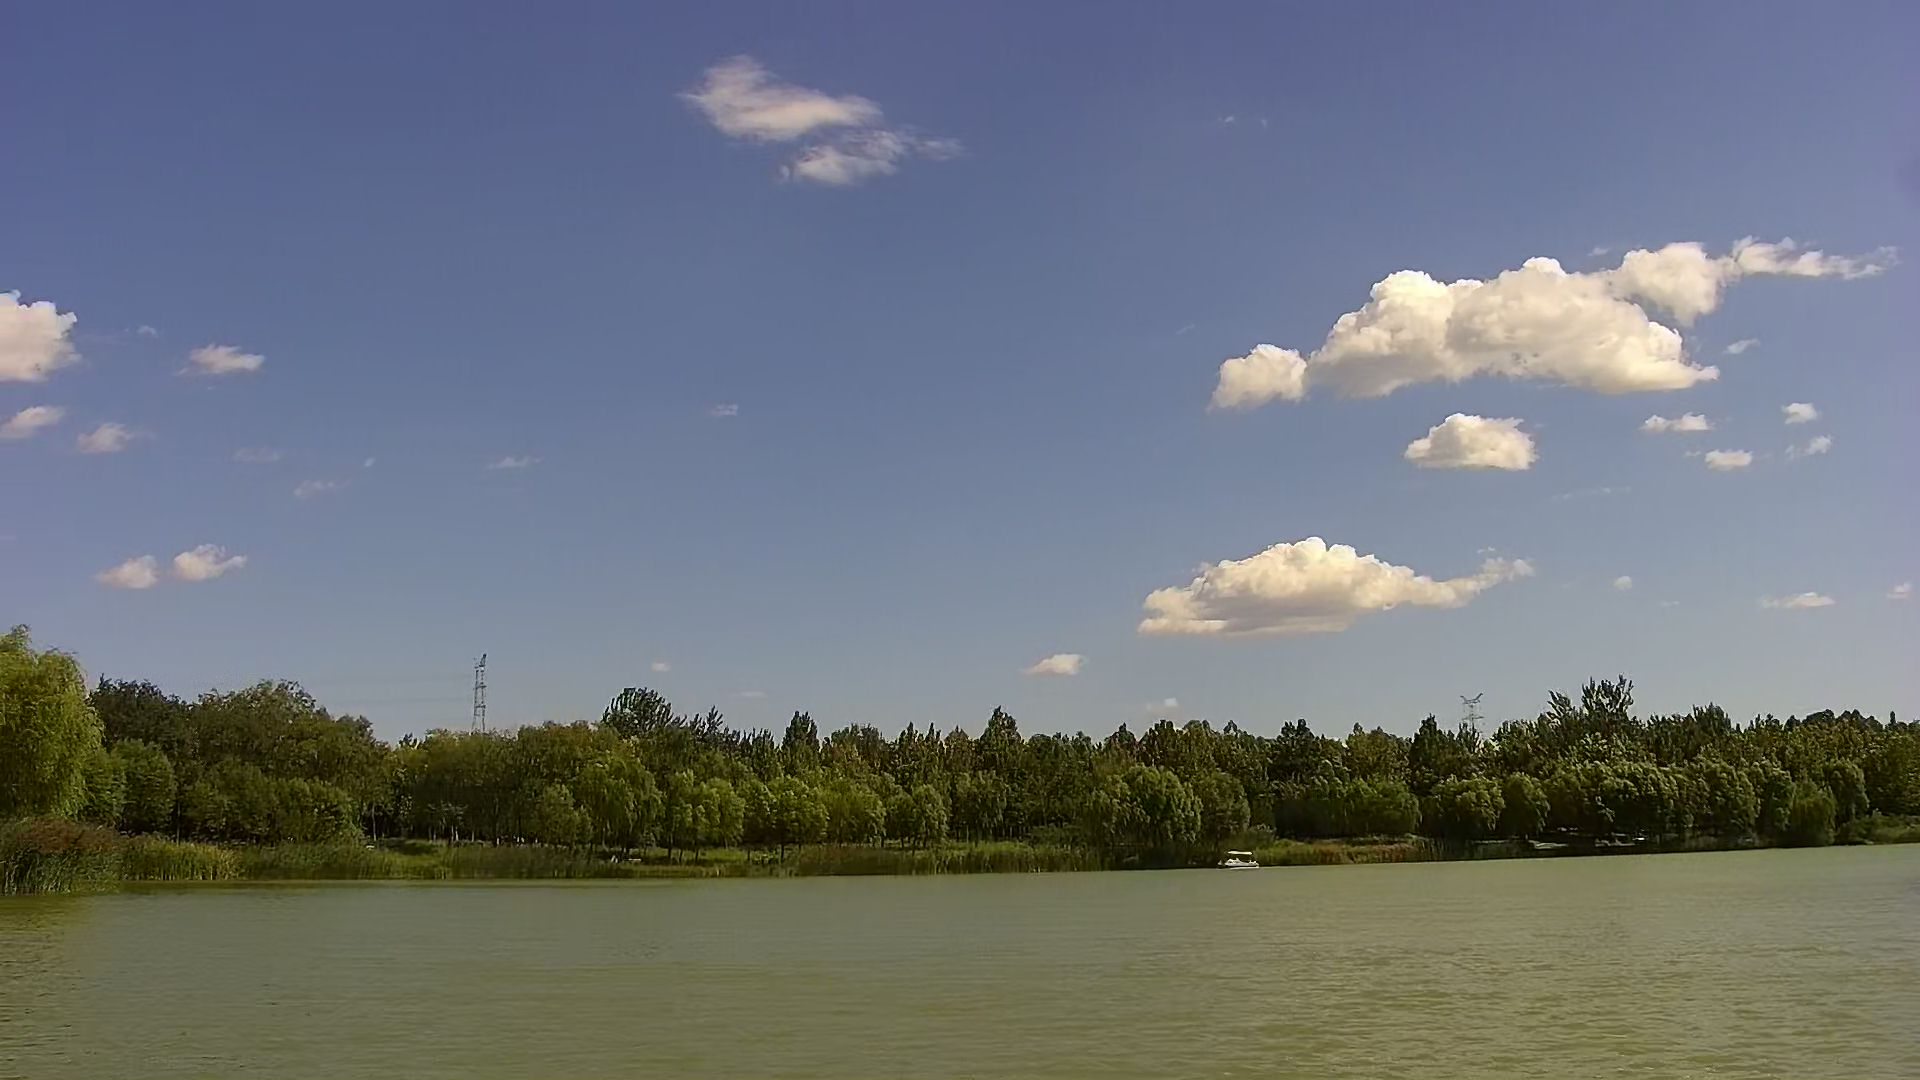boat: (1218, 848, 1262, 870)
